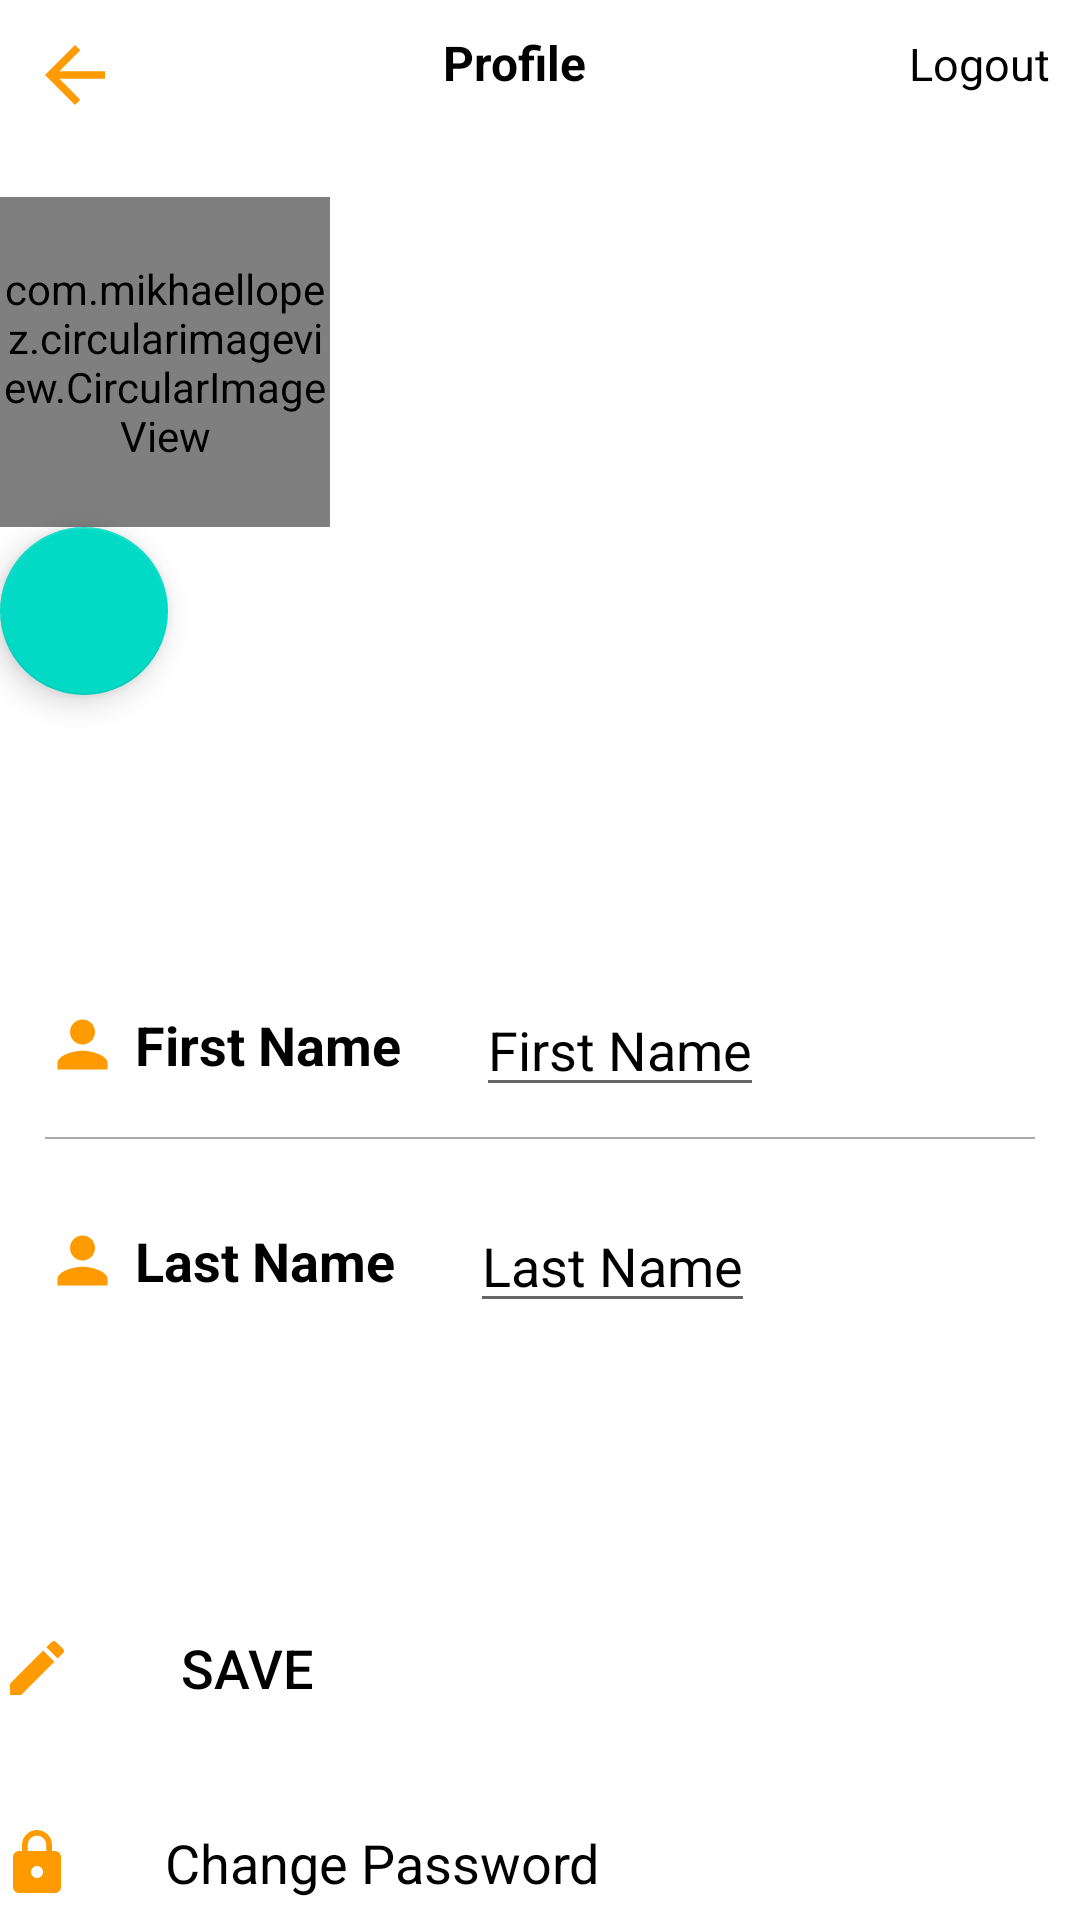

Icon click points for this 1080 × 1920 phone screenshot, format point (x, y):
arrow back: point (75, 75)
person: point (82, 1044), point (82, 1260)
